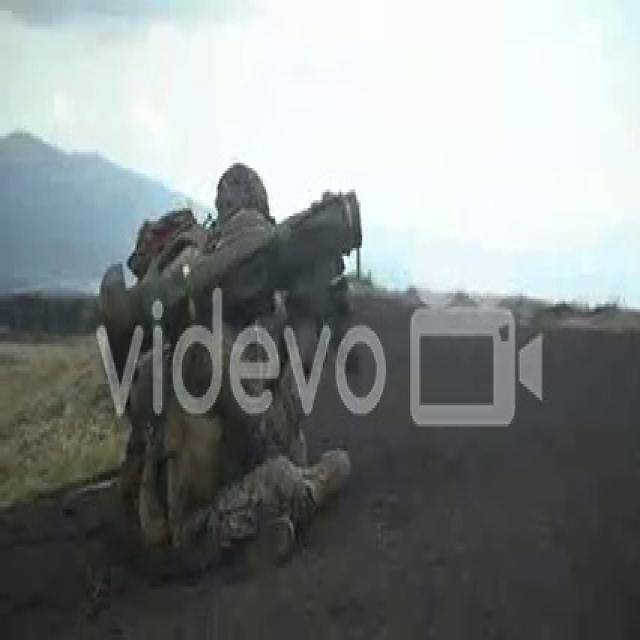bazooka: (98, 174, 369, 389)
